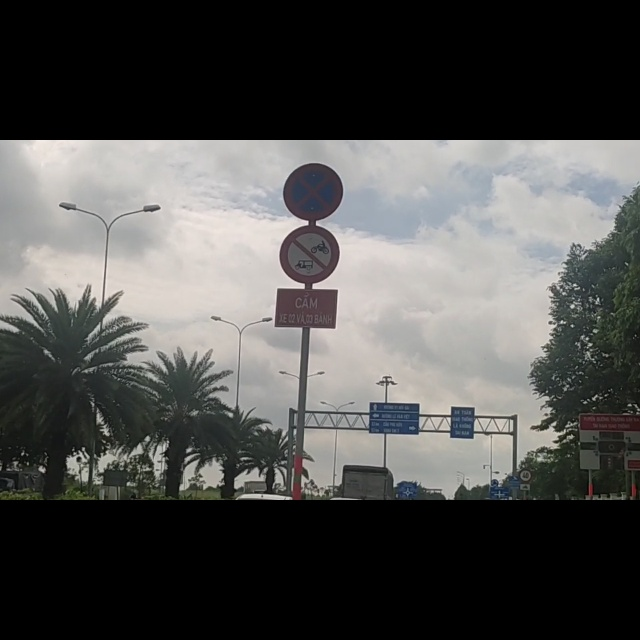bien_chi_dan: (277, 39, 344, 149), (278, 152, 341, 256)
